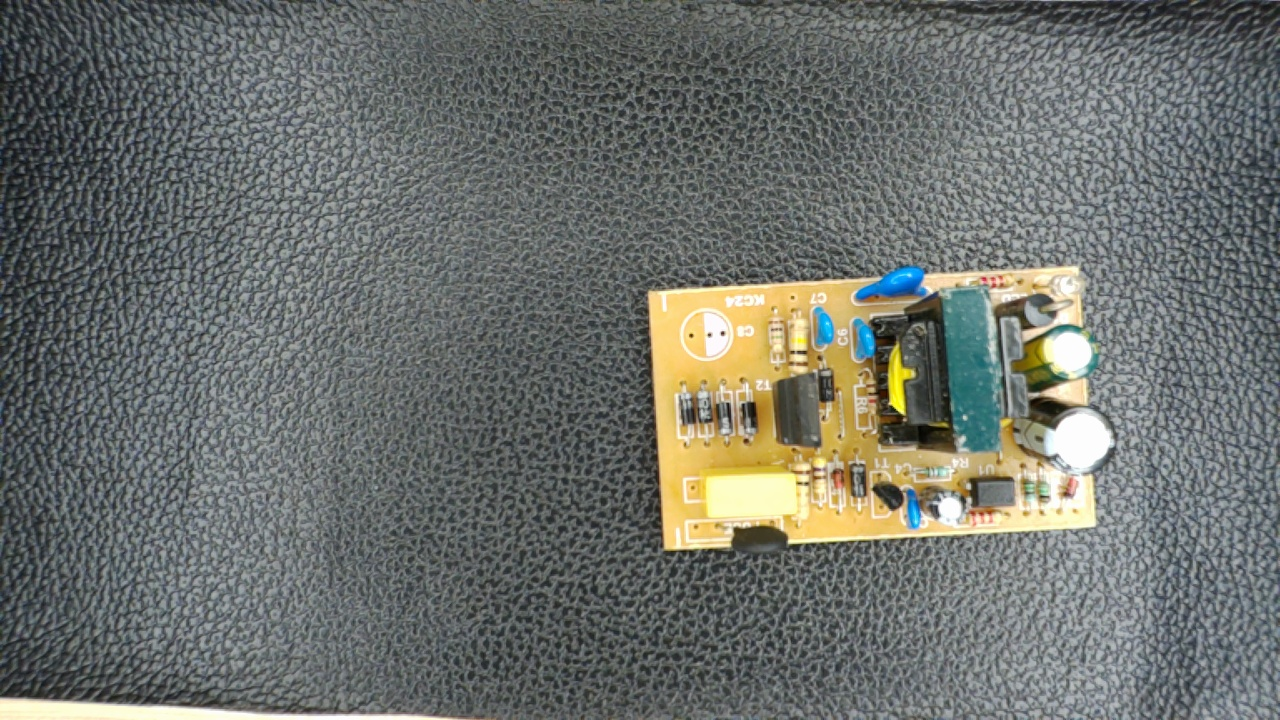fuse: (705, 518, 794, 558)
mov: (848, 266, 933, 306)
optocoupler: (962, 473, 1022, 515)
